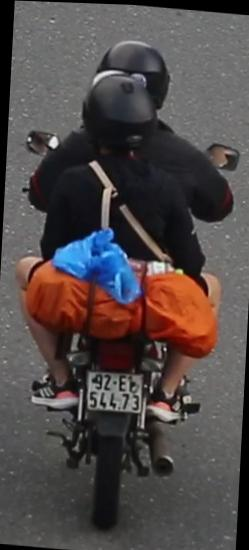LP: (81, 360, 146, 418)
helmet: (76, 68, 159, 159)
